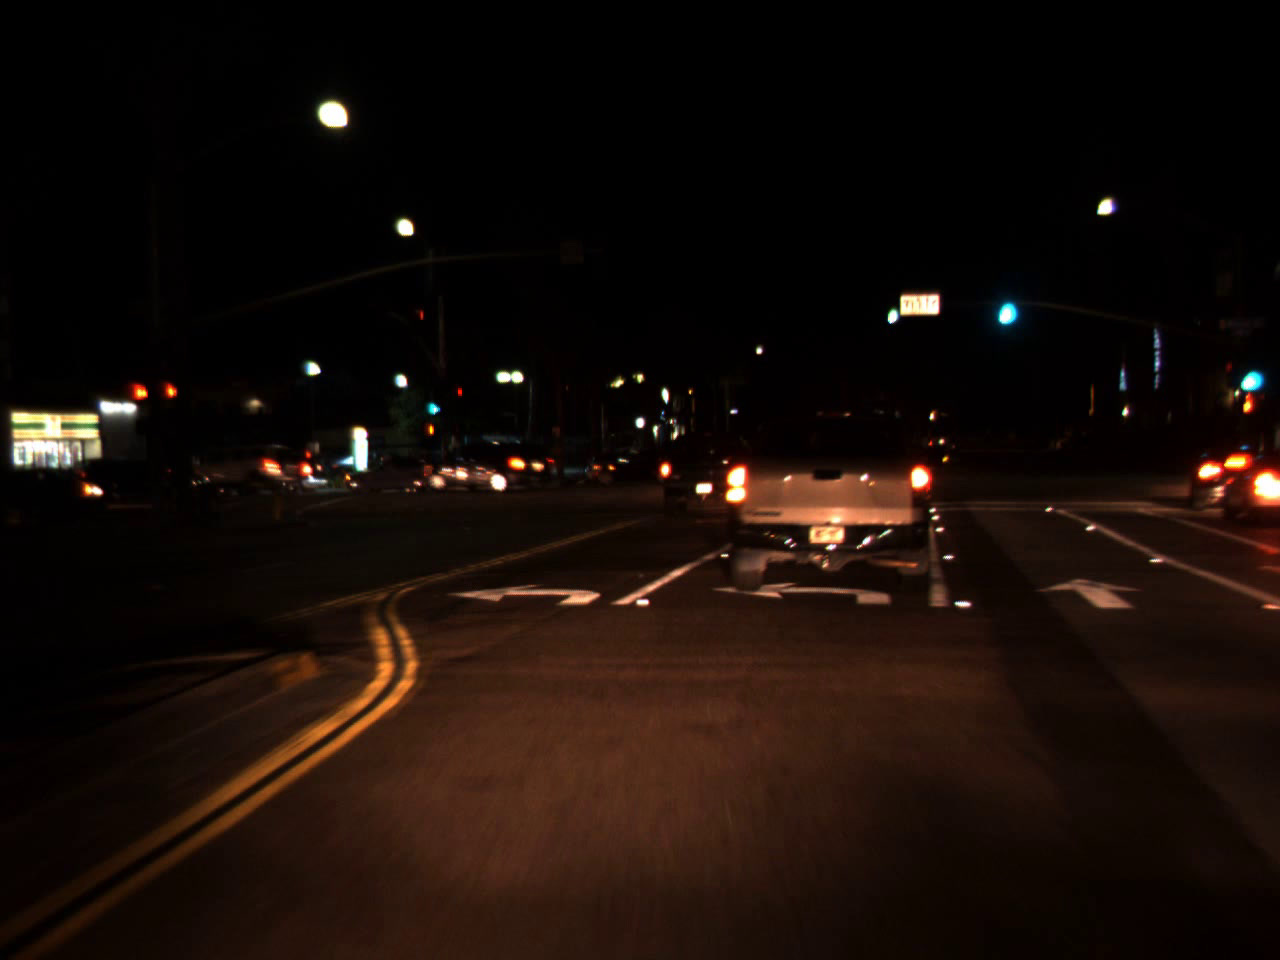go: (990, 274, 1020, 334), (1235, 345, 1265, 399), (423, 385, 444, 421), (882, 289, 900, 328)
